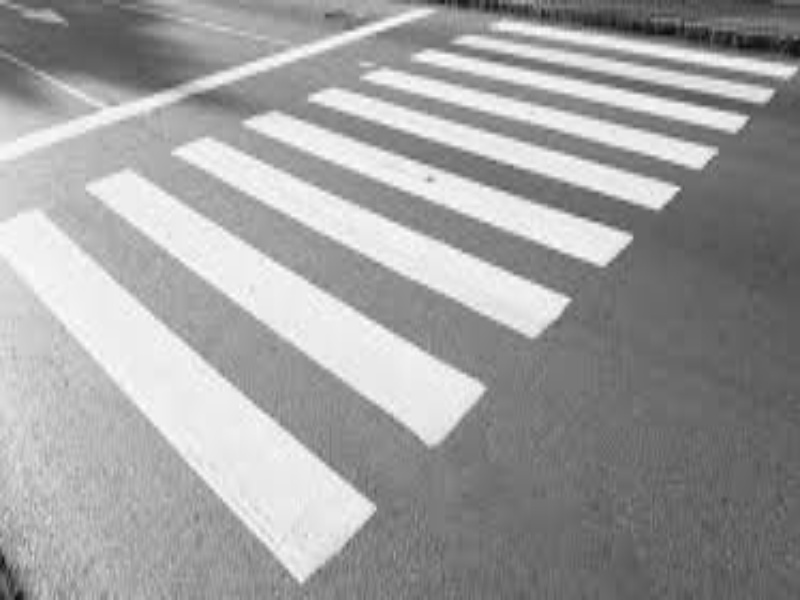zebra cross: (1, 16, 798, 591)
